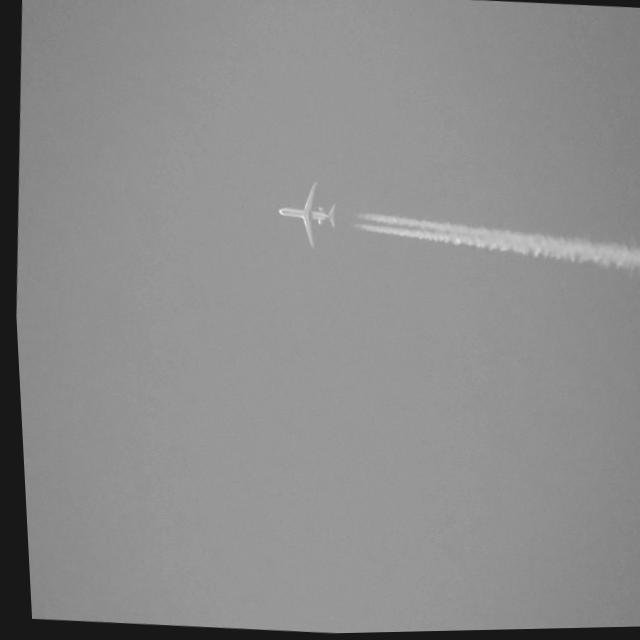aeroplane: (269, 178, 343, 256)
